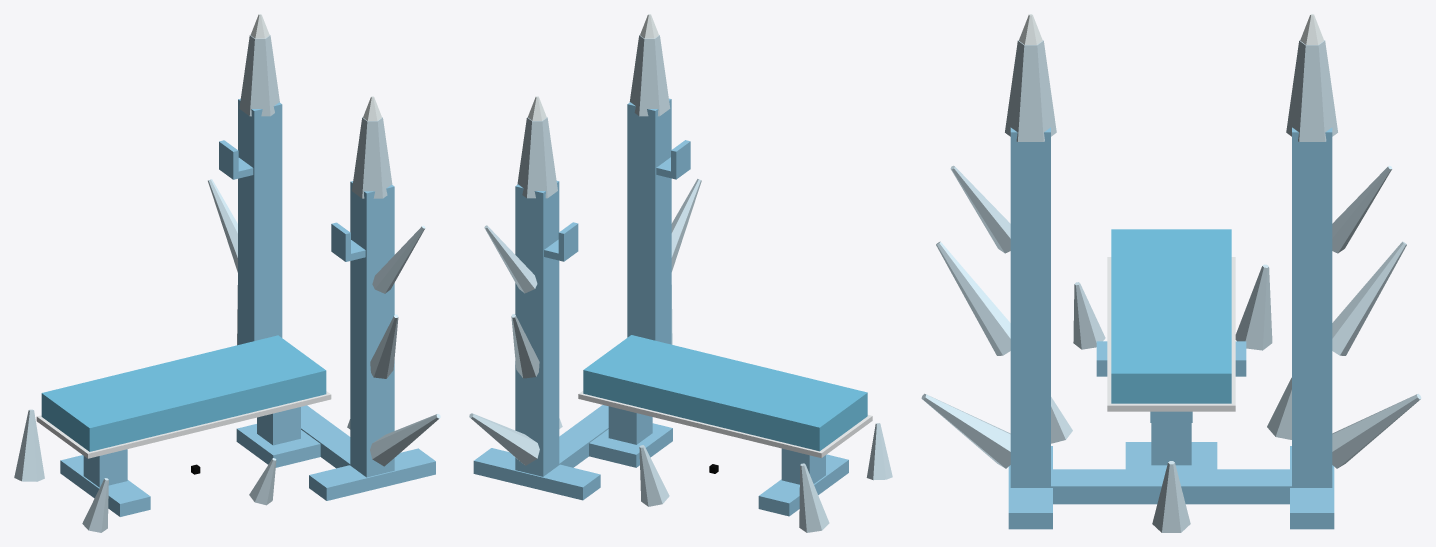
Rendered from Frost_Bench.fbx.
3 renders of one model, left to right at view 1: azimuth 30°, elevation 25°; view 2: azimuth 150°, elevation 25°; view 3: azimuth 270°, elevation 25°, orthographic. The views are drawn at different scales.
Visible parts, largest first — view 1: Frost_Frame, Frost_Pad, Frost_Crystals, Frost_Trim, Frost_Glow; view 2: Frost_Frame, Frost_Pad, Frost_Crystals, Frost_Trim, Frost_Glow; view 3: Frost_Frame, Frost_Crystals, Frost_Pad, Frost_Trim, Frost_Glow.
Boxes of the visible parts, x1,y1,x2,y2 form: Frost_Frame: (60, 98, 435, 516); Frost_Pad: (41, 335, 326, 451); Frost_Crystals: (14, 35, 440, 532); Frost_Trim: (36, 391, 331, 458); Frost_Glow: (250, 14, 381, 120); Frost_Frame: (473, 98, 848, 516); Frost_Pad: (583, 335, 867, 451); Frost_Crystals: (469, 35, 892, 532); Frost_Trim: (578, 391, 872, 457); Frost_Glow: (527, 14, 658, 120); Frost_Frame: (1008, 127, 1334, 529); Frost_Crystals: (921, 40, 1421, 532); Frost_Pad: (1111, 229, 1231, 403); Frost_Trim: (1107, 257, 1235, 411); Frost_Glow: (1019, 14, 1323, 44).
Bounding box in the file's own units: 5.43 × 6.22 × 5.81.
